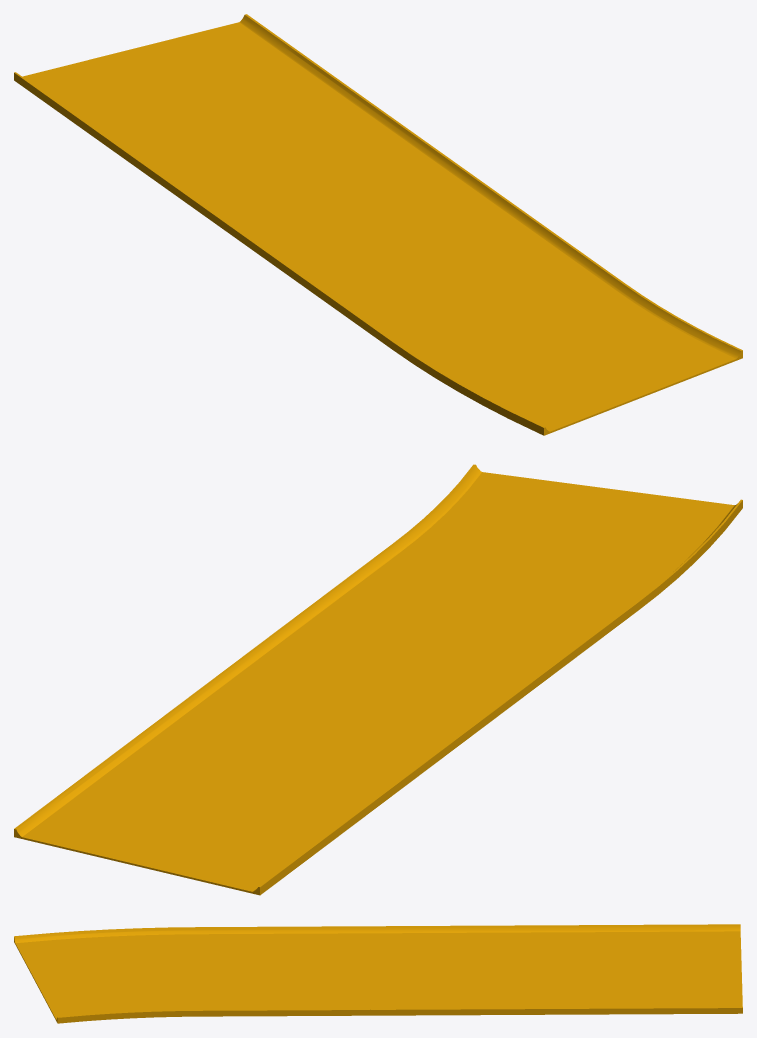
The model's file is 14mTrack_Blockout_IregularStraight3.fbx.
The picture shows the model from 3 angles, top to bottom: view 1: azimuth 30°, elevation 25°; view 2: azimuth 150°, elevation 25°; view 3: azimuth 270°, elevation 25°; orthographic projection. The views are drawn at different scales.
Parts seen in each view (by area): view 1: pCube43; view 2: pCube43; view 3: pCube43.
Part boxes in pixels (x1,y1,x2,y2): pCube43: (14, 14, 742, 435); pCube43: (14, 464, 742, 895); pCube43: (14, 924, 742, 1023).
Size of the model in its own units: 1565 by 45 by 5152.
